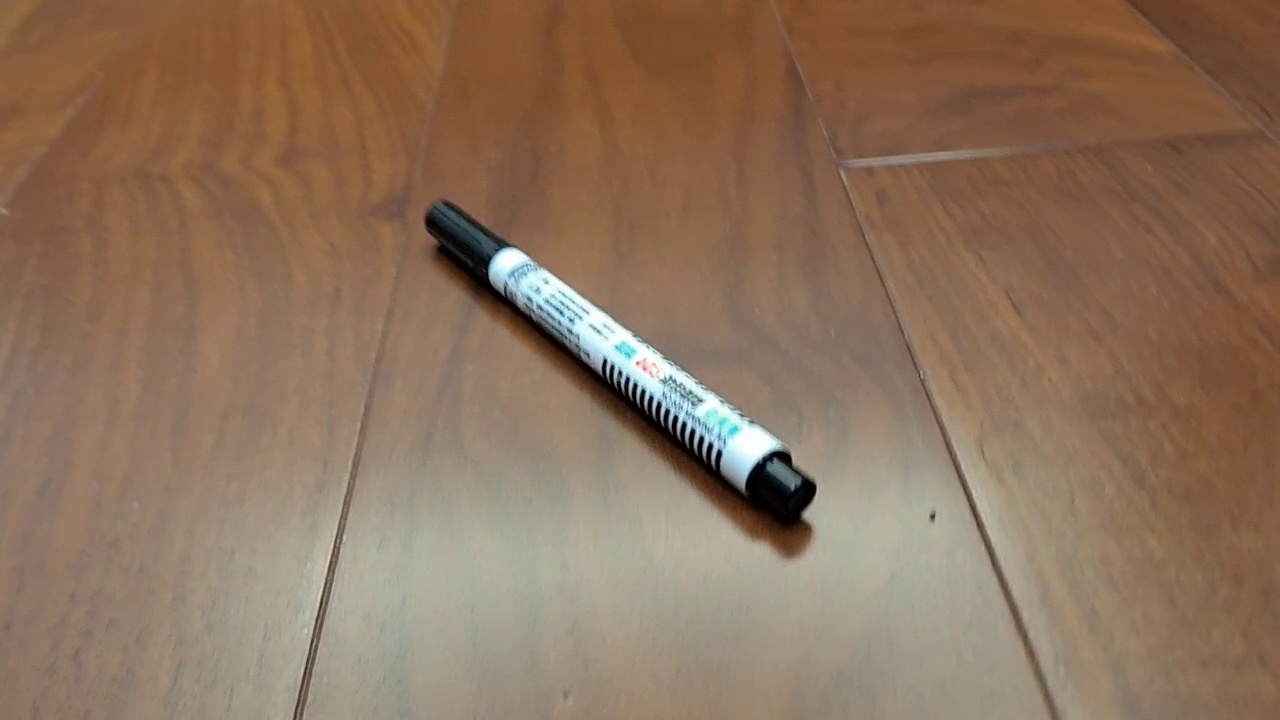pen: (424, 198, 817, 518)
